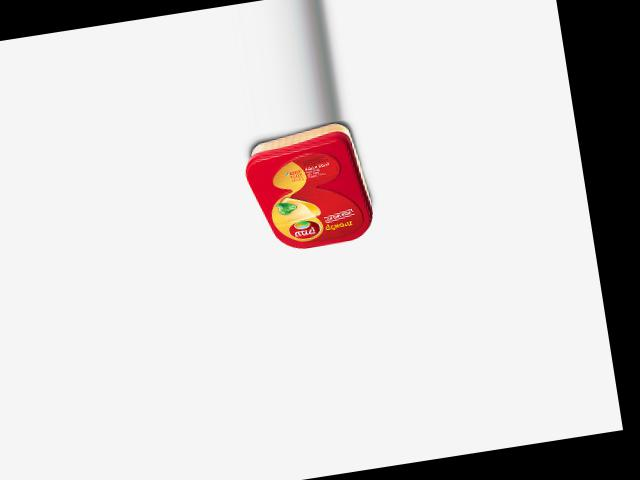cheese: (240, 119, 376, 256)
